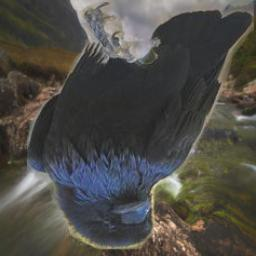Crow: (27, 2, 254, 249)
